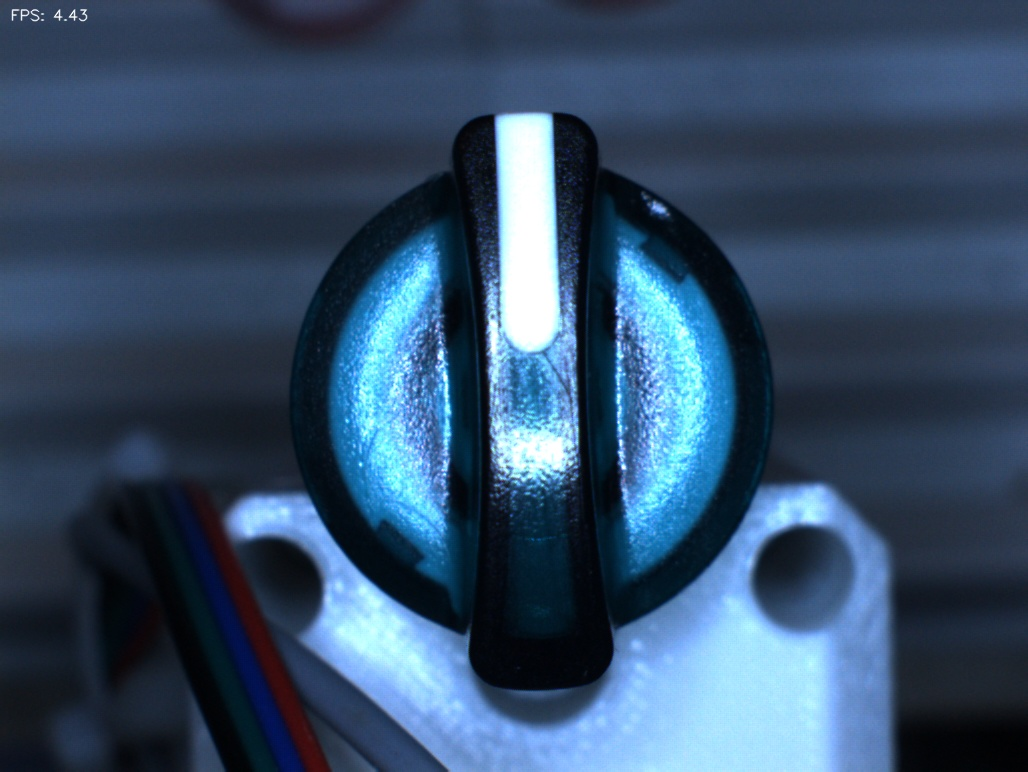Choc: (618, 164, 693, 239)
